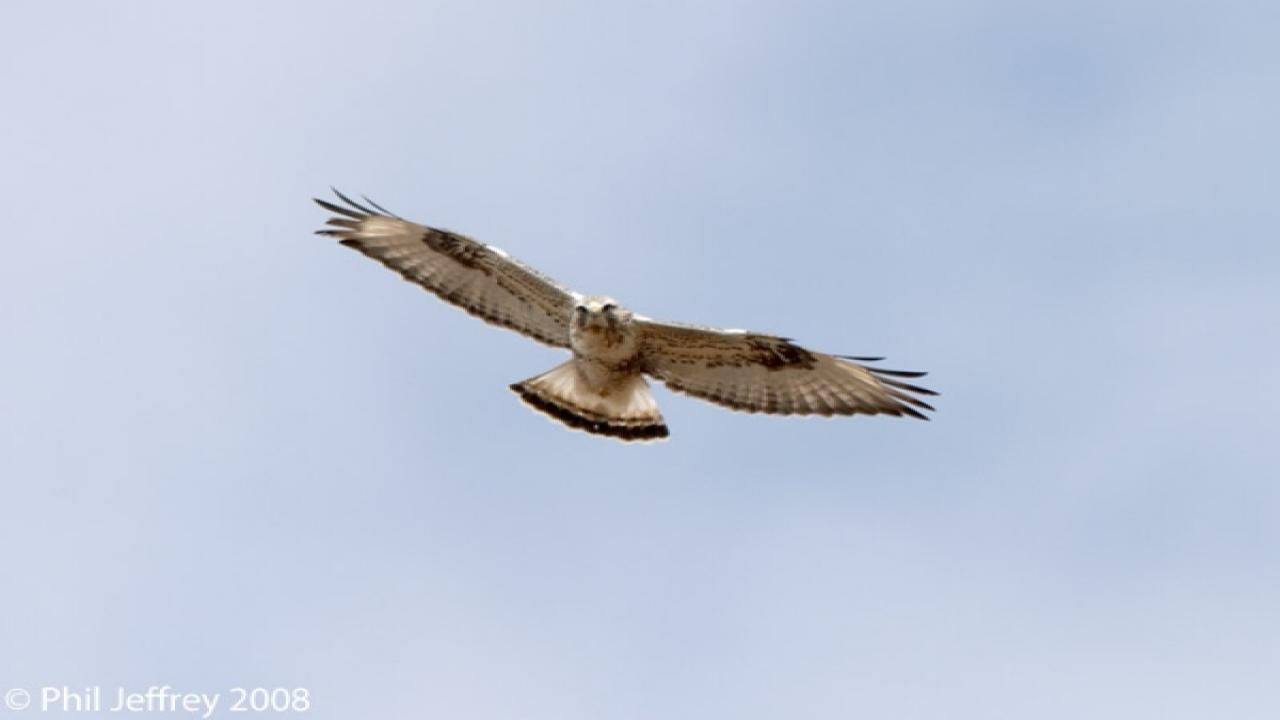Bird: (297, 184, 954, 449)
